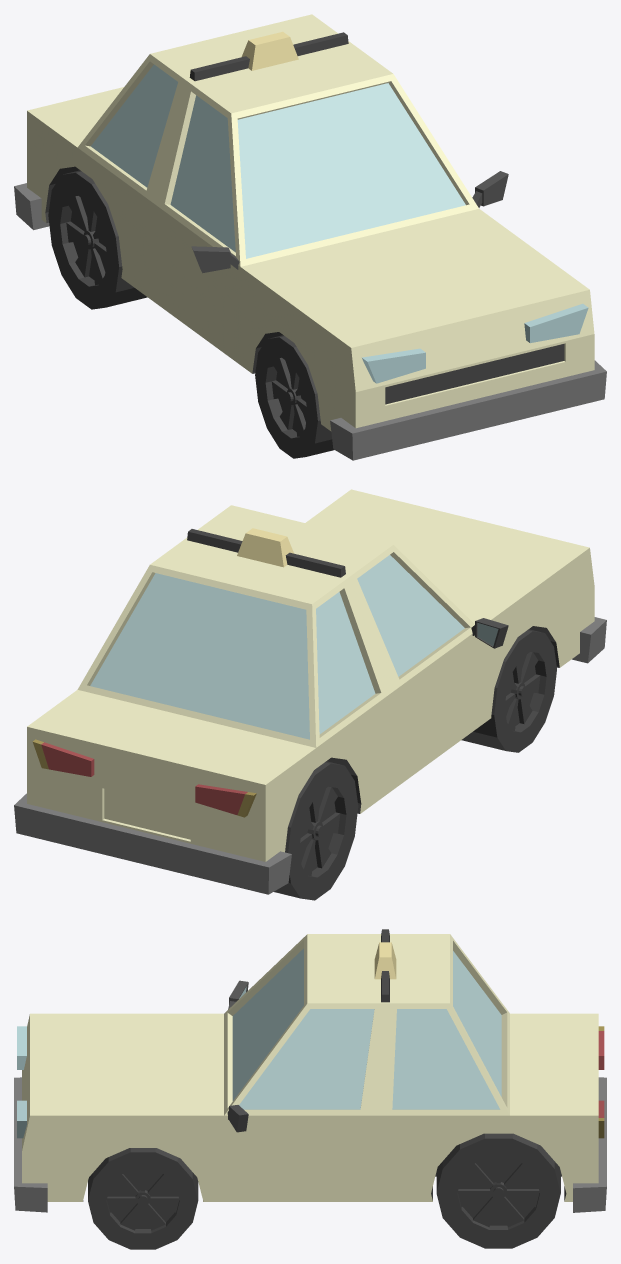
Rendered from CAR 2.fbx.
The picture shows the model from 3 angles, top to bottom: view 1: azimuth 30°, elevation 25°; view 2: azimuth 150°, elevation 25°; view 3: azimuth 270°, elevation 25°; orthographic projection. The views are drawn at different scales.
Parts seen in each view (by area): view 1: Cube; view 2: Cube; view 3: Cube.
Boxes of the visible parts, bbox=[...] form: Cube: bbox=[14, 14, 606, 460]; Cube: bbox=[14, 489, 606, 900]; Cube: bbox=[14, 929, 606, 1249].
Size of the model in its own units: 1008 by 869 by 1873.
